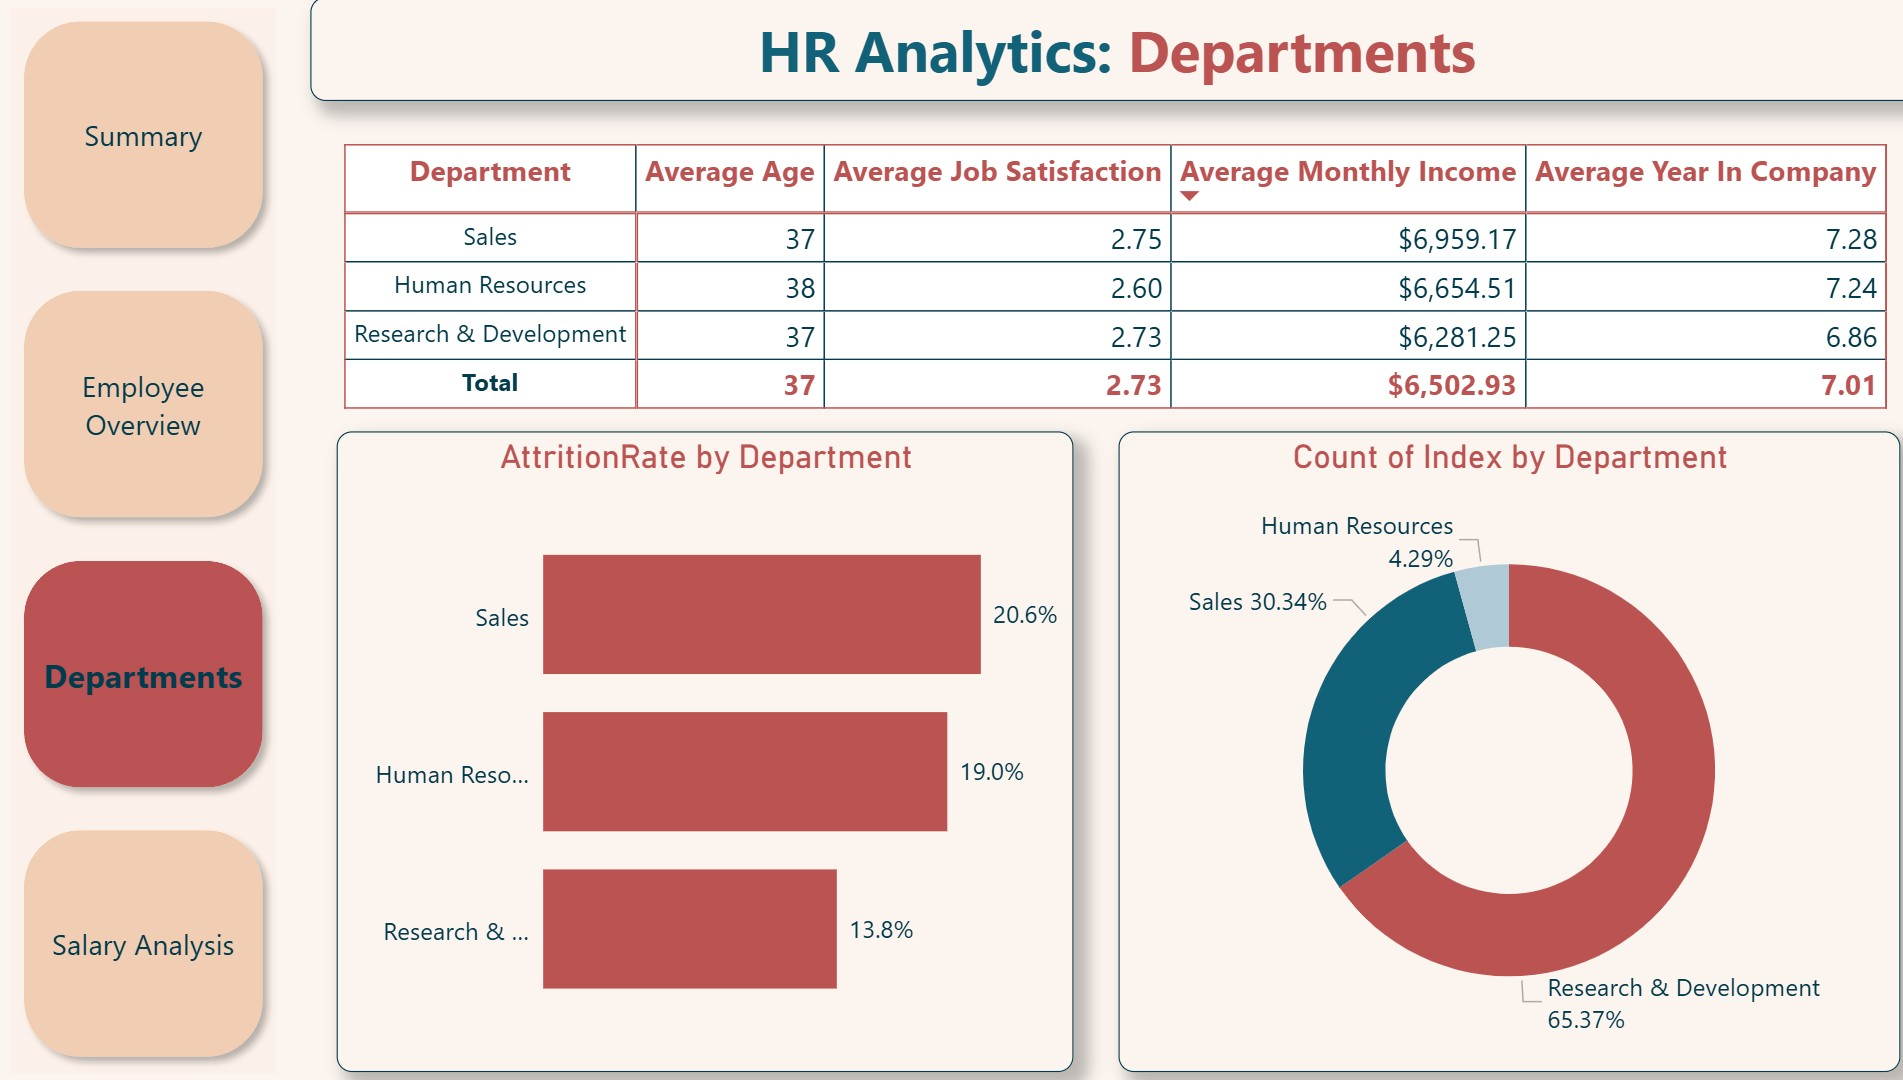

What the dashboard file says about the page in this screenshot:
{"tool":"powerbi","page":{"name":"Departments","canvas":[1280,720],"ordinal":2},"visuals":[{"type":"textbox","box":[219.7,0,1061.2,68.4],"z":0},{"type":"clusteredBarChart","fields":{"Y":["HR.Analytics.AttritionRate"],"Category":["HR.Analytics.Department"]},"box":[237.1,285.5,484.5,420.5],"z":1000},{"type":"pivotTable","fields":{"Rows":["HR.Analytics.Department"],"Values":["HR.Analytics.Avrg_Age","HR.Analytics.Avrg_Job_Satisfaction","HR.Analytics.Avrg_Monthly_Income","HR.Analytics.Avrg_YearInCompany"]},"box":[237.1,91.7,1027.8,193.8],"z":2000},{"type":"donutChart","fields":{"Category":["HR.Analytics.Department"],"Y":["CountNonNull(HR.Analytics.Index)"]},"box":[751,285.5,513.9,420.5],"z":3000},{"type":"pageNavigator","box":[21.9,6.6,175,700],"z":4000}]}

Visuals, with their boxes in screenshot pixels (x1, y1, x2, y2), scaled from the page's 1280x720 canvas onto the 1903x1080 screenshot:
textbox: {"x1": 327, "y1": 0, "x2": 1902, "y2": 103}
clusteredBarChart - HR.Analytics.AttritionRate x HR.Analytics.Department: {"x1": 353, "y1": 428, "x2": 1073, "y2": 1059}
pivotTable - HR.Analytics.Department x HR.Analytics.Avrg_Age: {"x1": 353, "y1": 138, "x2": 1881, "y2": 428}
donutChart - HR.Analytics.Department x CountNonNull(HR.Analytics.Index): {"x1": 1117, "y1": 428, "x2": 1881, "y2": 1059}
pageNavigator: {"x1": 33, "y1": 10, "x2": 293, "y2": 1060}
